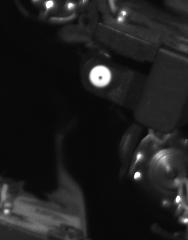fiber: (84, 63, 116, 91)
